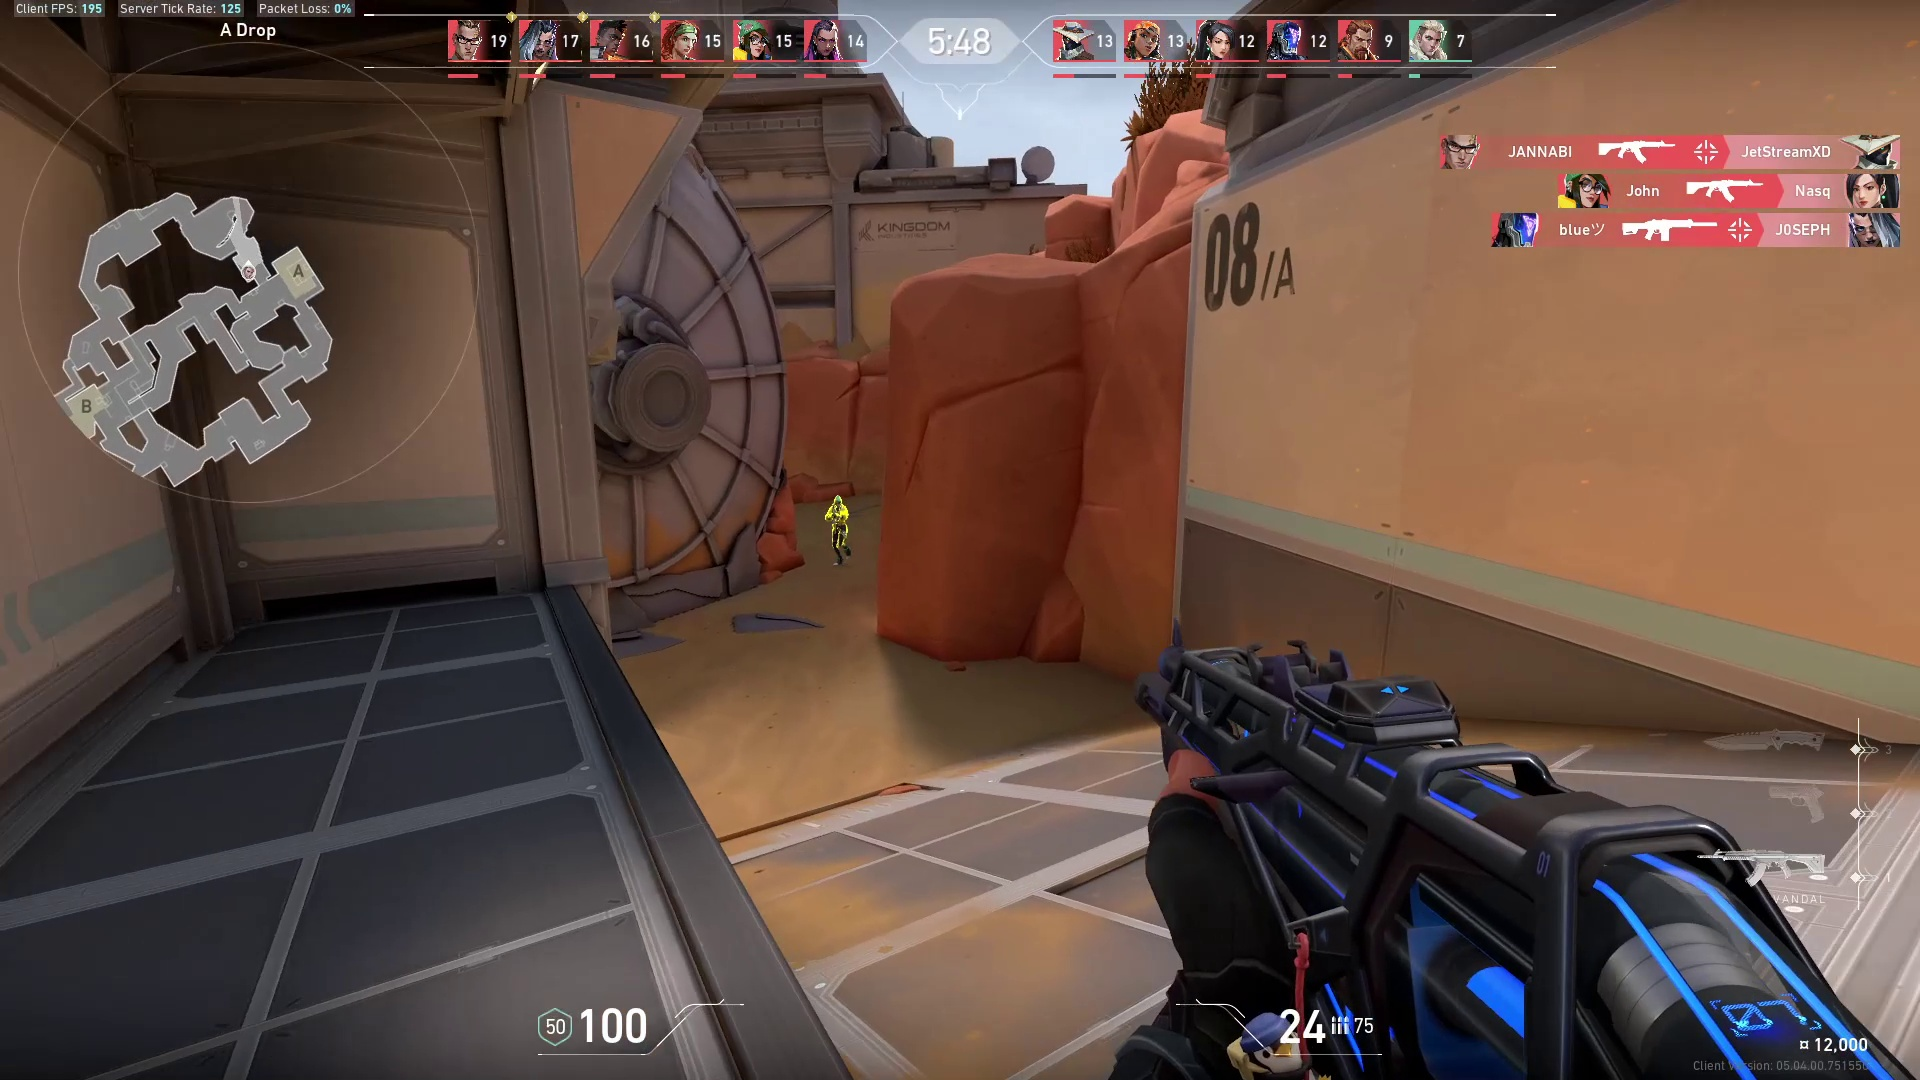enemy_body: (825, 506, 855, 567)
enemy_head: (831, 493, 844, 509)
